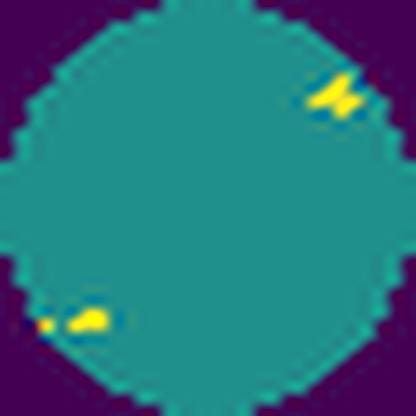Loc: (306, 70, 363, 126), (61, 302, 111, 336)
